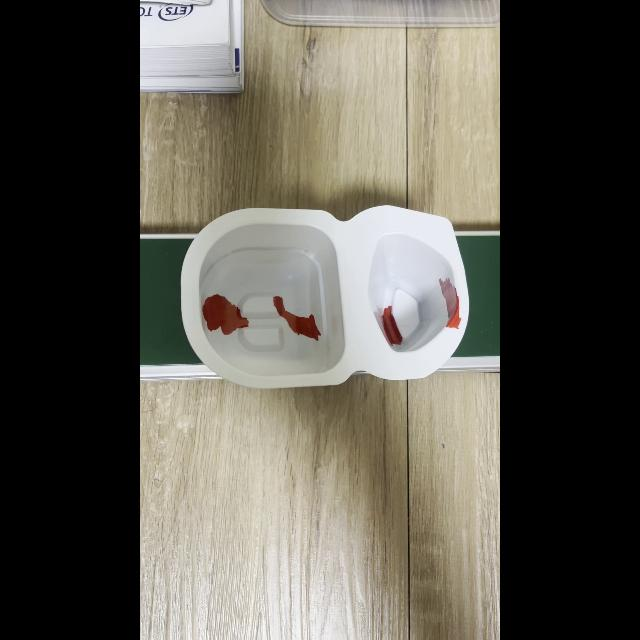dirty: (182, 206, 466, 386)
